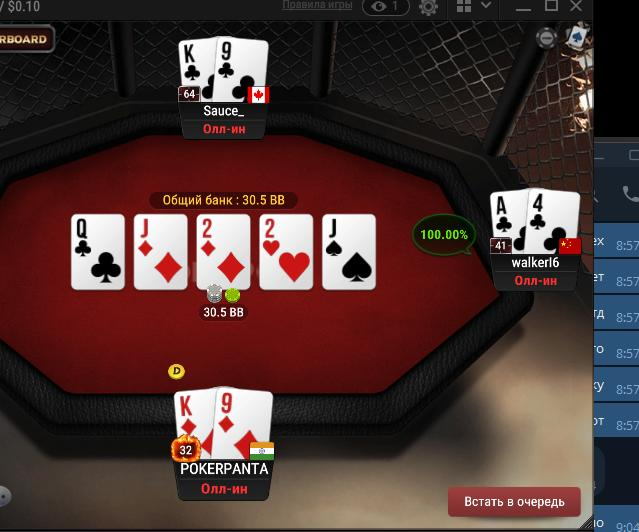2d: (198, 215, 251, 289)
2h: (261, 216, 311, 291)
4c: (527, 188, 581, 256)
9c: (216, 34, 268, 105)
9d: (214, 386, 273, 462)
Ac: (489, 189, 529, 254)
Jd: (134, 216, 185, 289)
Js: (323, 215, 374, 289)
Kc: (177, 36, 216, 103)
Kd: (173, 390, 215, 462)
Qc: (71, 215, 124, 289)
